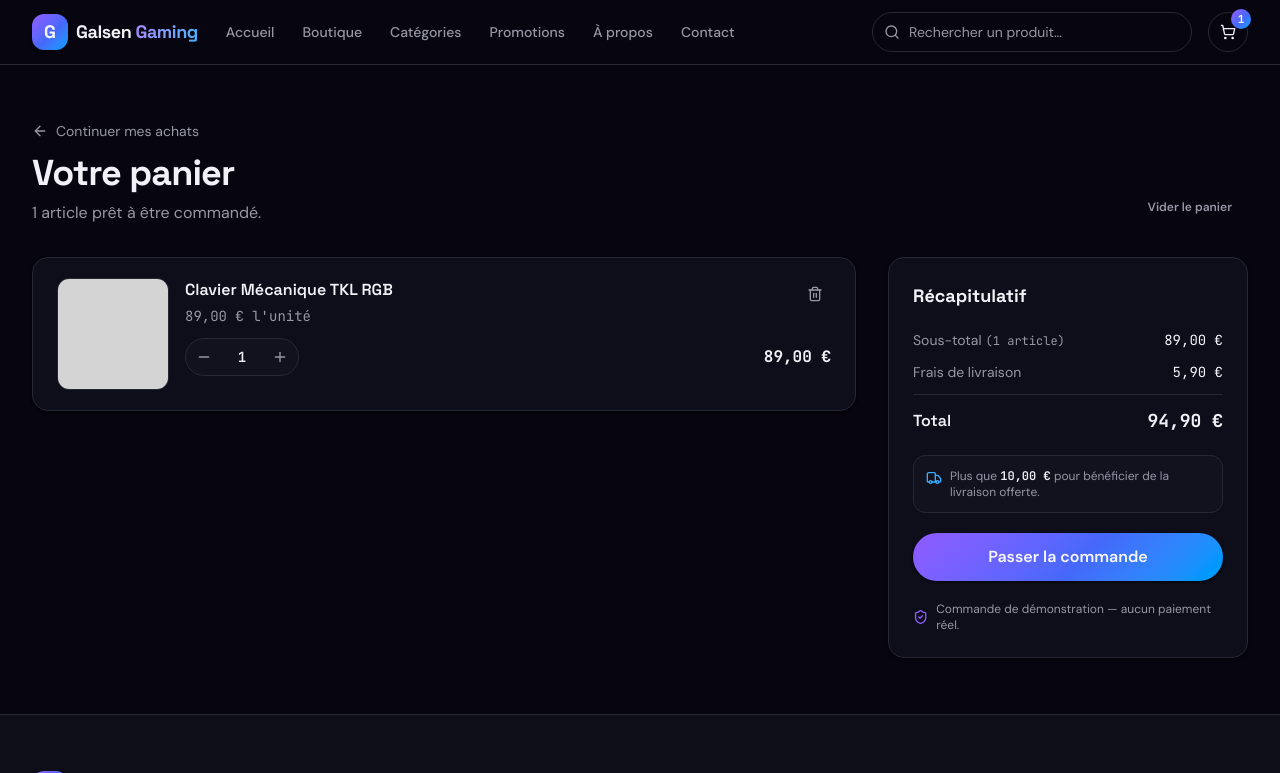
CartPage › removes an item from the cart
expect the link "Clavier Mécanique TKL RGB" is shown: met, box [185,278,393,302]
Click the button named "Retirer Clavier Mécanique TKL RGB du panier": click(815, 294) [799,278,831,310]
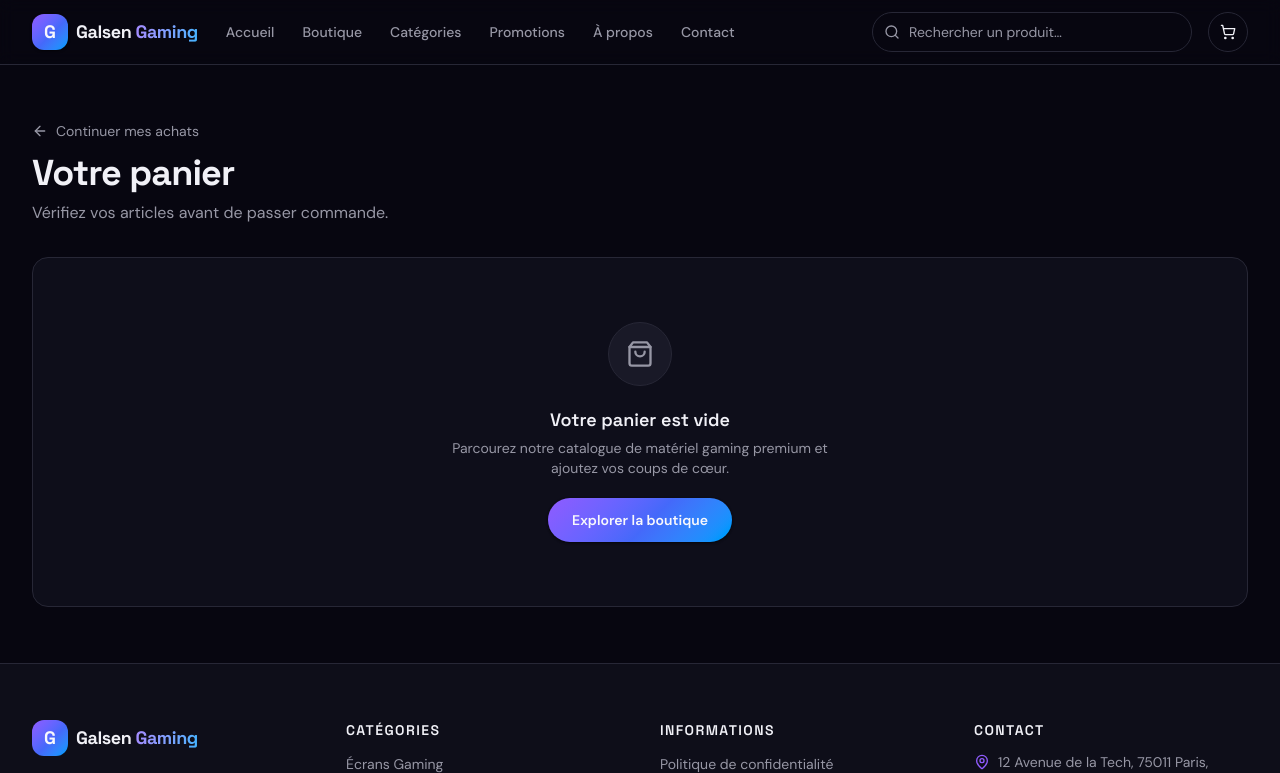
expect the text "Votre panier est vide" is shown: met, box [550,408,730,431]
